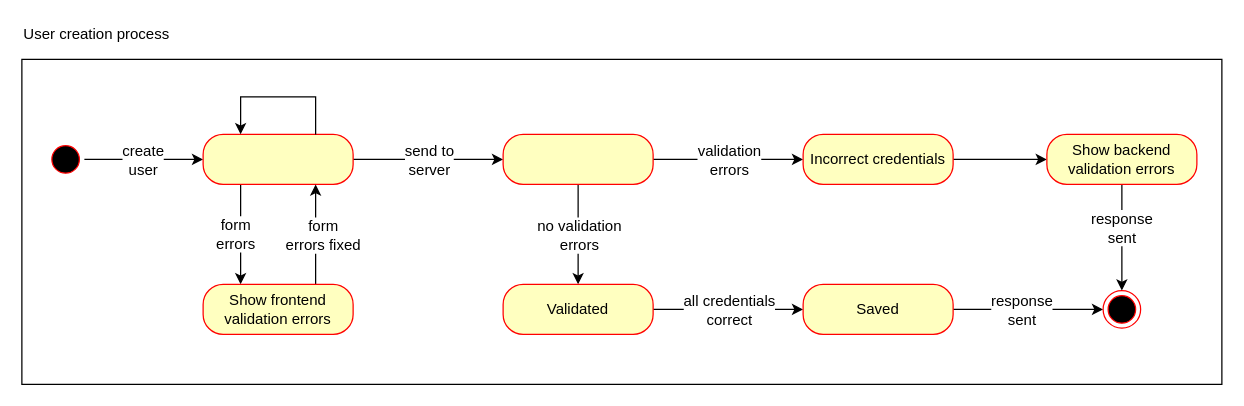
This 1244x406 diagram has some shape labels left out. Here are the shapes that lost their labels. From the top down, the centre of each, then its label:
the point at 277,158: Entering credentials
the point at 577,158: Submitted
